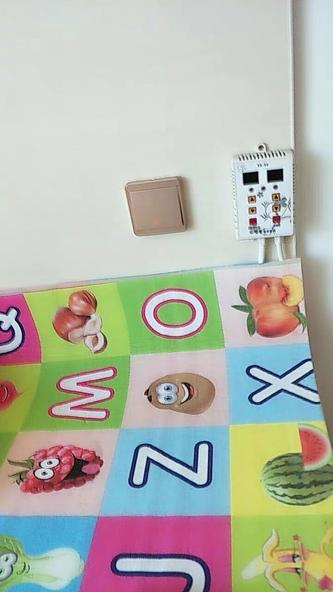switch: (125, 194, 185, 236)
